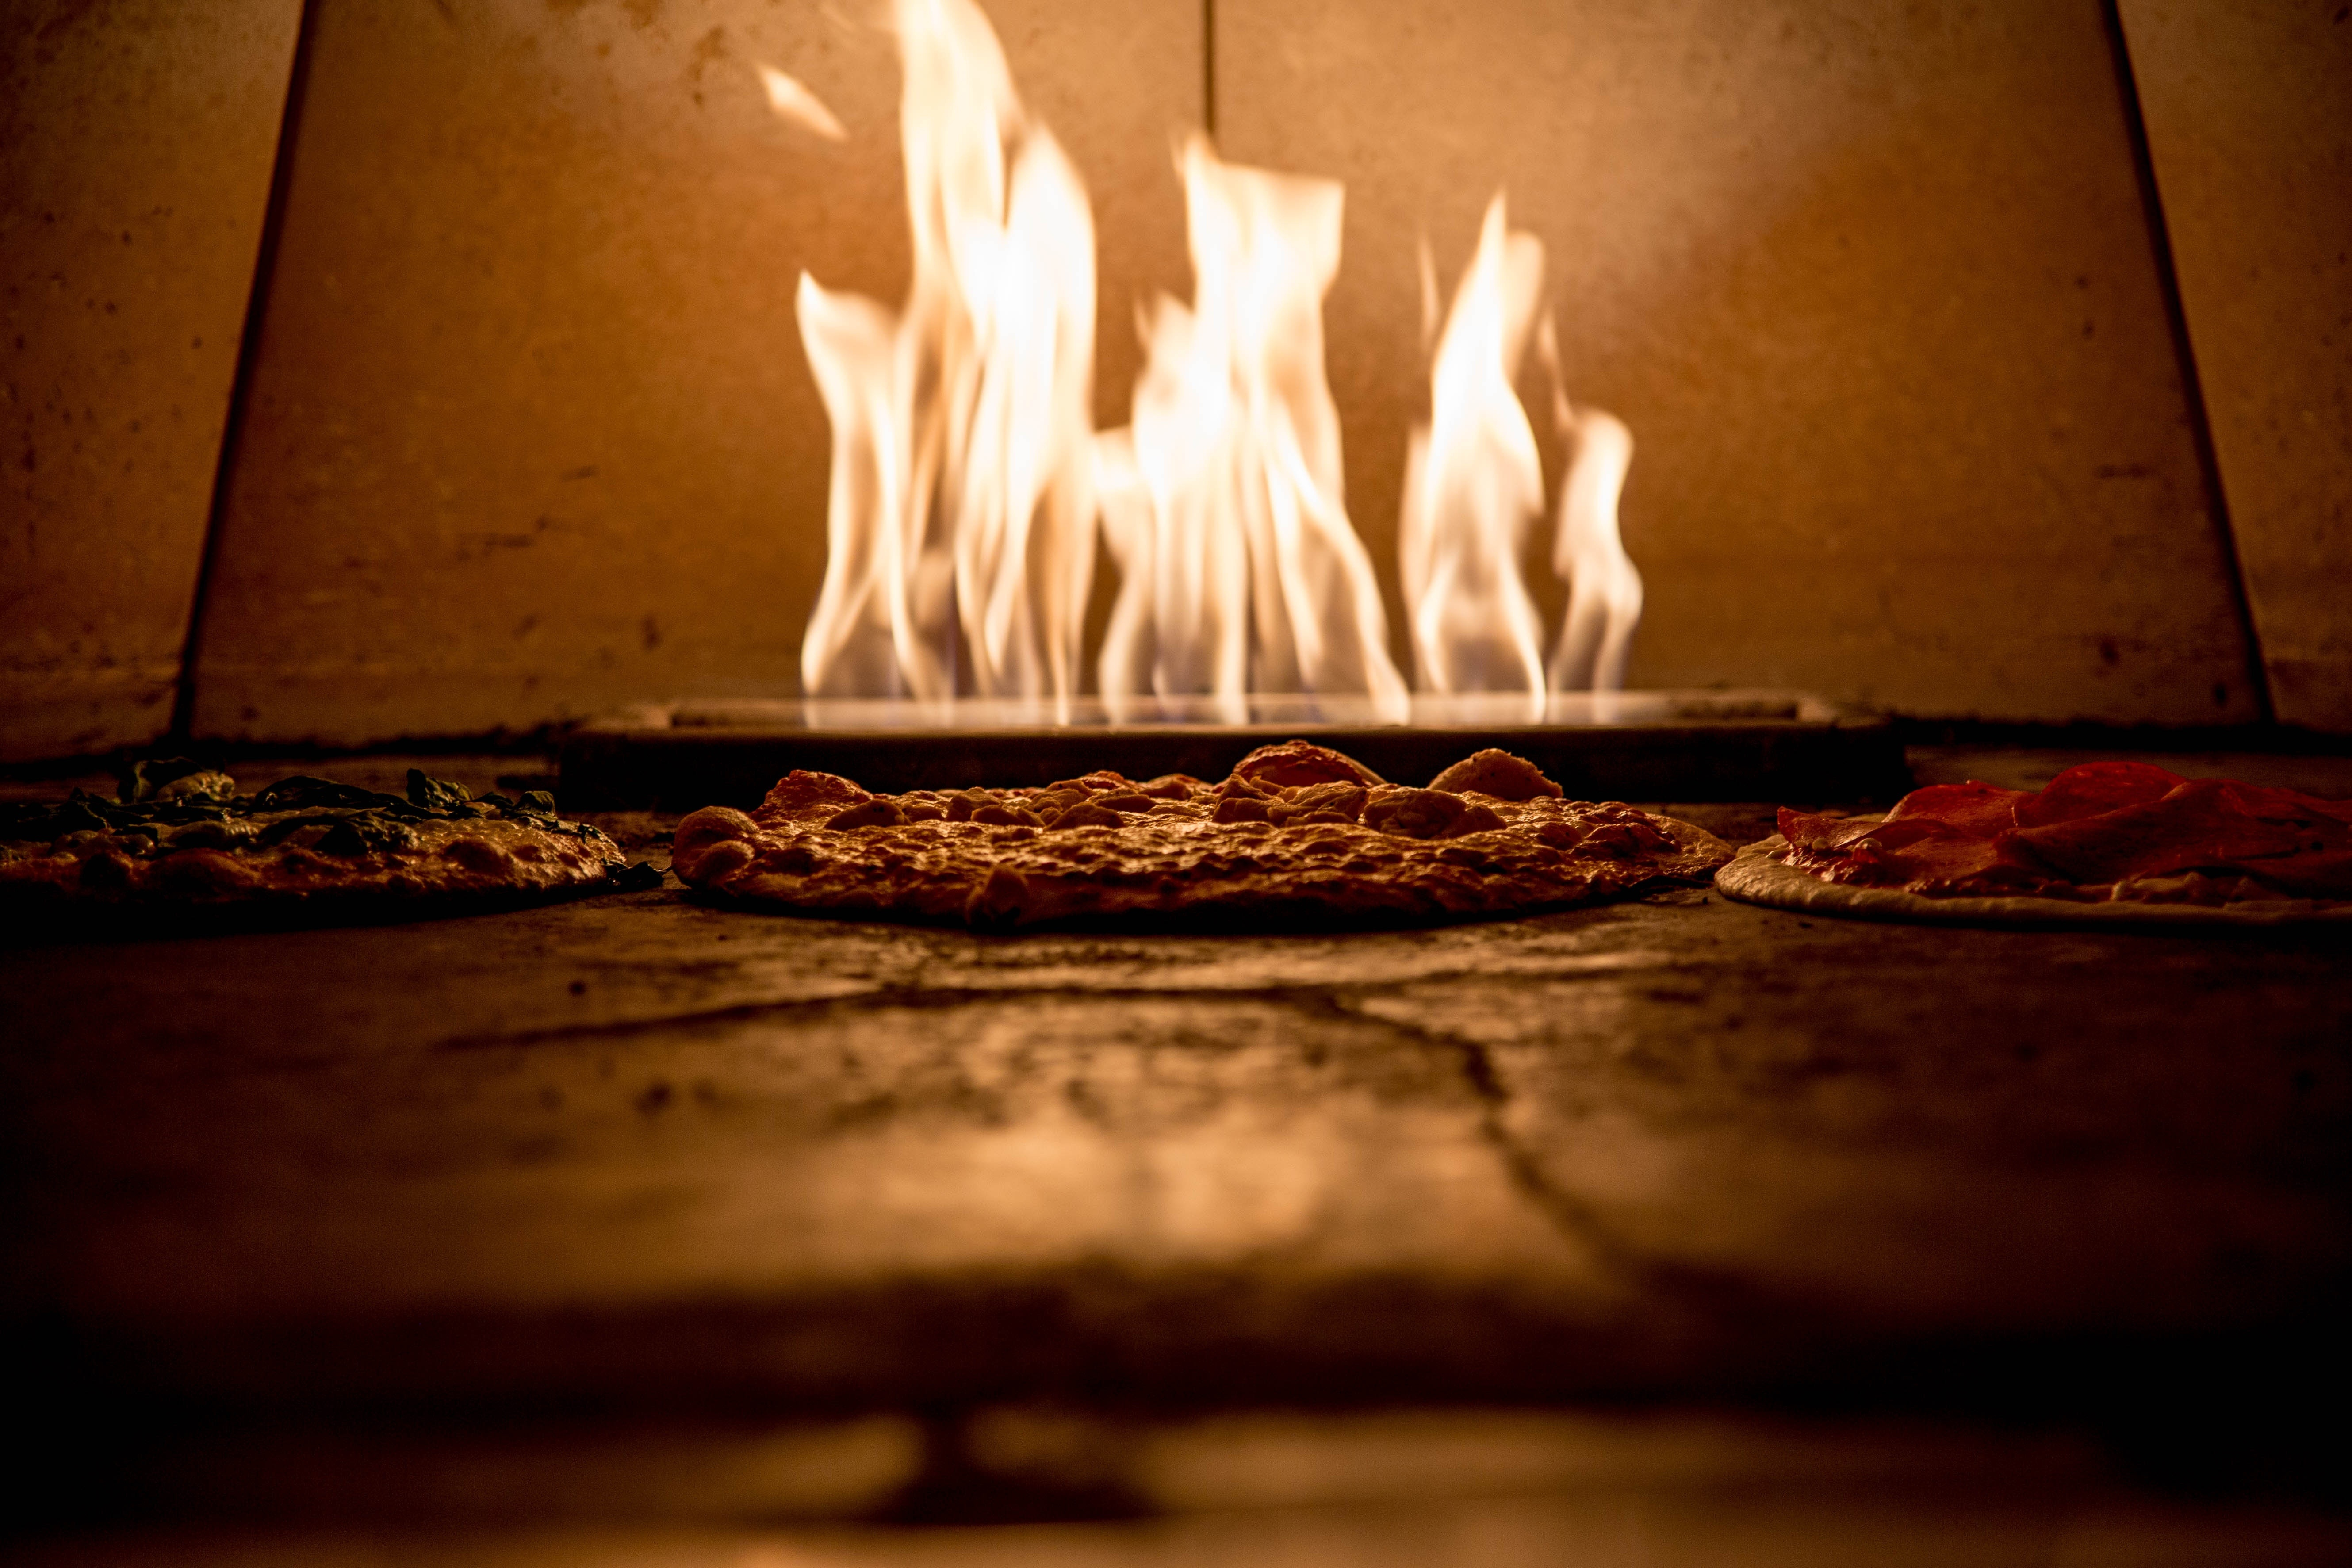fire: (780, 44, 1652, 744)
